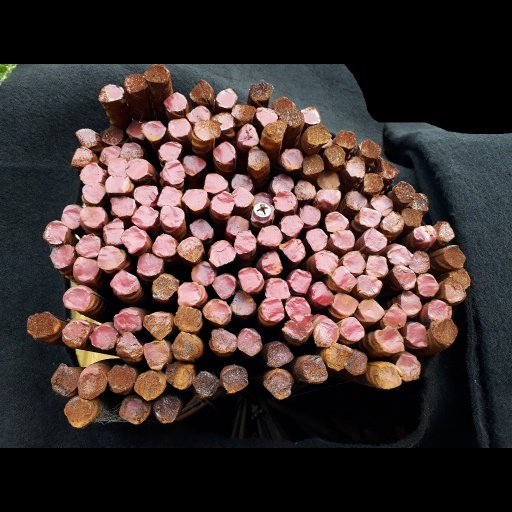dipstick: (63, 397, 97, 428), (171, 330, 203, 362), (50, 364, 80, 397), (132, 372, 165, 401), (114, 332, 143, 364), (263, 369, 292, 400), (27, 311, 59, 339), (61, 318, 90, 348), (77, 370, 107, 399), (117, 397, 149, 423), (173, 305, 202, 333), (107, 365, 136, 393), (202, 297, 232, 324), (208, 328, 238, 355), (143, 312, 172, 339), (313, 317, 339, 347), (109, 271, 140, 296), (120, 226, 147, 254), (221, 366, 249, 393), (191, 371, 219, 398), (165, 361, 192, 389), (145, 340, 171, 369), (281, 316, 312, 340), (151, 274, 178, 301), (301, 355, 328, 382), (395, 352, 421, 380), (326, 343, 352, 371), (89, 325, 118, 350), (237, 327, 262, 356), (96, 247, 126, 271), (63, 286, 90, 312), (330, 266, 357, 292), (431, 319, 458, 345), (153, 396, 179, 423), (208, 242, 236, 267), (72, 257, 100, 282), (267, 342, 293, 368), (74, 233, 101, 258), (376, 362, 401, 389), (356, 298, 384, 322), (111, 312, 142, 333), (381, 304, 407, 329), (278, 238, 305, 262), (176, 281, 203, 305), (398, 289, 422, 316), (378, 329, 405, 353), (135, 252, 163, 275), (331, 293, 359, 316), (230, 291, 255, 316), (177, 237, 201, 263), (130, 206, 158, 228), (78, 206, 106, 228), (212, 273, 236, 298), (392, 265, 416, 290), (237, 267, 260, 293), (102, 218, 124, 245), (263, 278, 290, 300), (151, 233, 175, 257), (442, 243, 466, 267), (340, 317, 364, 341), (161, 160, 184, 185), (233, 229, 256, 254), (43, 220, 68, 243), (49, 244, 74, 267), (313, 250, 338, 273), (182, 188, 208, 210), (109, 195, 135, 217), (289, 269, 311, 295), (345, 349, 367, 375), (310, 281, 332, 307), (285, 297, 312, 318), (189, 80, 212, 104), (258, 224, 282, 247), (342, 250, 366, 273), (443, 279, 466, 303), (416, 274, 439, 298), (210, 192, 235, 214), (159, 206, 184, 228), (190, 262, 215, 284), (81, 182, 105, 204), (280, 148, 304, 170), (324, 211, 348, 233), (428, 299, 452, 321), (406, 324, 428, 348), (316, 188, 341, 209), (61, 204, 82, 229), (77, 164, 104, 183), (281, 214, 303, 237), (365, 228, 387, 251), (365, 254, 387, 277), (407, 250, 429, 273), (164, 91, 188, 112), (214, 88, 238, 109), (142, 120, 166, 141), (133, 184, 157, 205), (203, 172, 227, 193), (374, 160, 398, 181), (248, 82, 273, 102), (69, 147, 94, 167), (181, 155, 206, 175), (369, 195, 394, 215), (330, 230, 355, 250), (97, 84, 123, 103), (194, 121, 220, 140), (74, 128, 100, 147), (237, 124, 259, 146), (324, 144, 346, 166), (392, 181, 414, 203), (344, 155, 365, 178), (273, 190, 296, 211), (226, 215, 249, 236), (190, 220, 213, 241), (401, 206, 424, 227), (306, 228, 327, 251), (447, 268, 470, 289), (255, 107, 279, 127), (157, 187, 181, 207), (248, 147, 268, 171), (250, 203, 274, 223), (387, 246, 411, 266), (143, 66, 171, 83), (214, 142, 236, 163), (125, 158, 148, 178), (359, 140, 382, 160), (279, 109, 303, 128), (305, 126, 329, 145), (357, 207, 381, 226), (262, 250, 281, 274), (123, 75, 148, 93), (318, 171, 340, 191), (346, 191, 368, 211), (232, 188, 255, 207), (301, 154, 324, 173), (293, 180, 316, 199), (333, 130, 356, 149), (381, 213, 404, 232), (105, 176, 129, 194), (158, 141, 182, 159), (231, 173, 255, 191), (212, 113, 234, 132), (99, 146, 121, 165), (363, 173, 383, 193), (168, 119, 189, 138), (408, 192, 429, 211), (299, 206, 320, 225), (101, 126, 123, 144), (187, 106, 210, 123), (232, 103, 255, 120), (272, 97, 295, 114), (119, 143, 142, 160), (413, 225, 436, 242), (126, 121, 146, 140), (435, 221, 454, 241), (301, 107, 322, 125), (263, 124, 284, 142), (272, 175, 294, 192), (108, 158, 127, 176)
